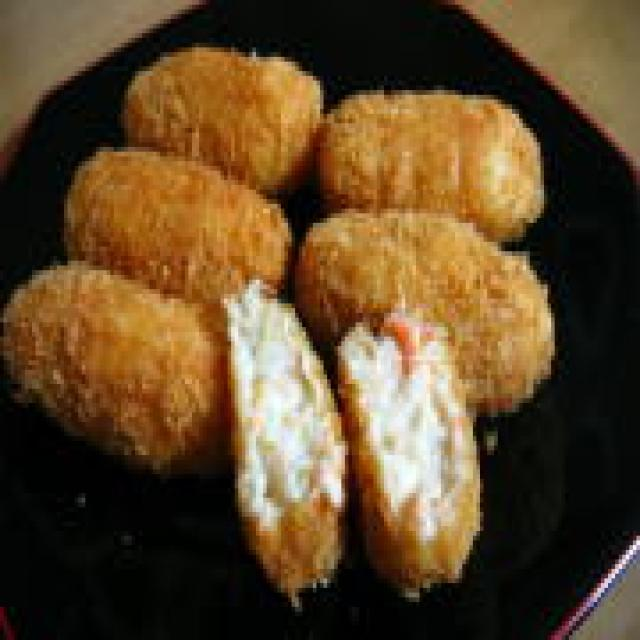炸货点心: (0, 28, 562, 607)
